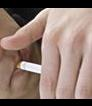Cigarette: (17, 59, 41, 72)
